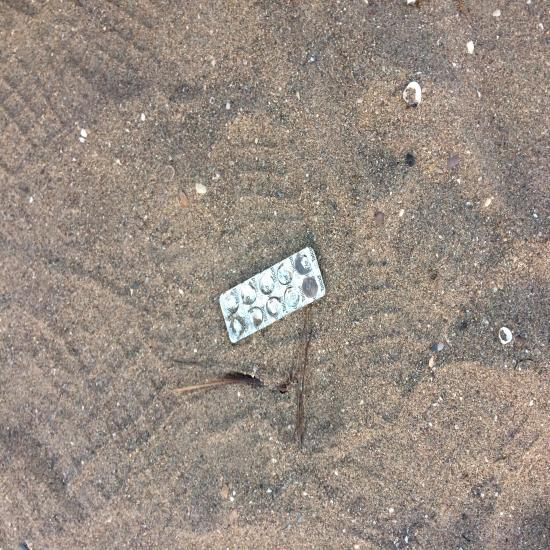Plastic bottle cap: (170, 446, 201, 484)
